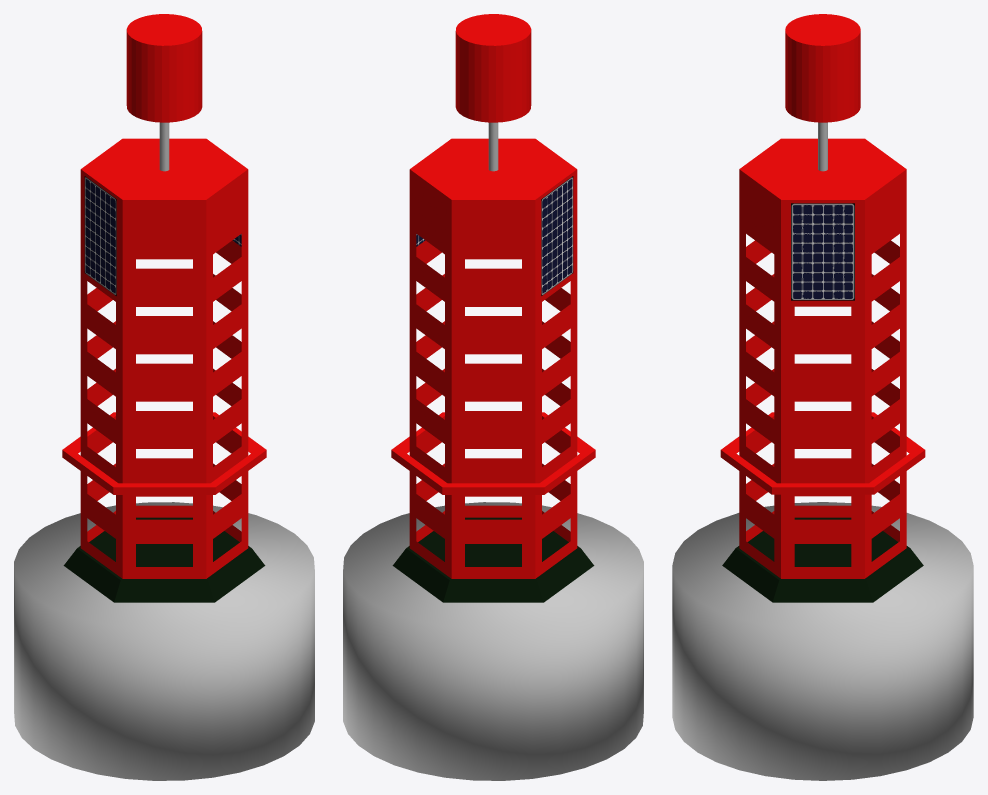
The model's file is Boy-Portside.gltf.
3 renders of one model, left to right at view 1: azimuth 30°, elevation 25°; view 2: azimuth 150°, elevation 25°; view 3: azimuth 270°, elevation 25°, orthographic.
Parts seen in each view (by area): view 1: Cylinder.022, Cylinder.023, Cylindre babord, Cylinder.021, Cylinder.020, Plane.010, Axe.005; view 2: Cylinder.022, Cylinder.023, Cylindre babord, Cylinder.021, Cylinder.020, Plane.010, Axe.005; view 3: Cylinder.022, Cylinder.023, Cylindre babord, Cylinder.021, Plane.011, Cylinder.020.
Part boxes in pixels (x1=…): Cylinder.022: x1=14, y1=502, x2=314, y2=780; Cylinder.023: x1=80, y1=138, x2=248, y2=578; Cylindre babord: x1=126, y1=14, x2=202, y2=122; Cylinder.021: x1=63, y1=517, x2=265, y2=602; Cylinder.020: x1=62, y1=412, x2=266, y2=494; Plane.010: x1=84, y1=176, x2=116, y2=295; Axe.005: x1=159, y1=122, x2=169, y2=171; Cylinder.022: x1=343, y1=502, x2=643, y2=780; Cylinder.023: x1=409, y1=138, x2=577, y2=578; Cylindre babord: x1=455, y1=14, x2=531, y2=122; Cylinder.021: x1=392, y1=517, x2=594, y2=602; Cylinder.020: x1=391, y1=412, x2=595, y2=494; Plane.010: x1=541, y1=176, x2=573, y2=295; Axe.005: x1=488, y1=122, x2=498, y2=171; Cylinder.022: x1=672, y1=502, x2=973, y2=780; Cylinder.023: x1=739, y1=138, x2=906, y2=578; Cylindre babord: x1=785, y1=14, x2=860, y2=122; Cylinder.021: x1=722, y1=517, x2=923, y2=602; Plane.011: x1=791, y1=203, x2=854, y2=300; Cylinder.020: x1=720, y1=412, x2=925, y2=494.
Bounding box in the file's own units: 1.8 × 4.53 × 1.8.
Materials: 4 (1 with a texture image).
